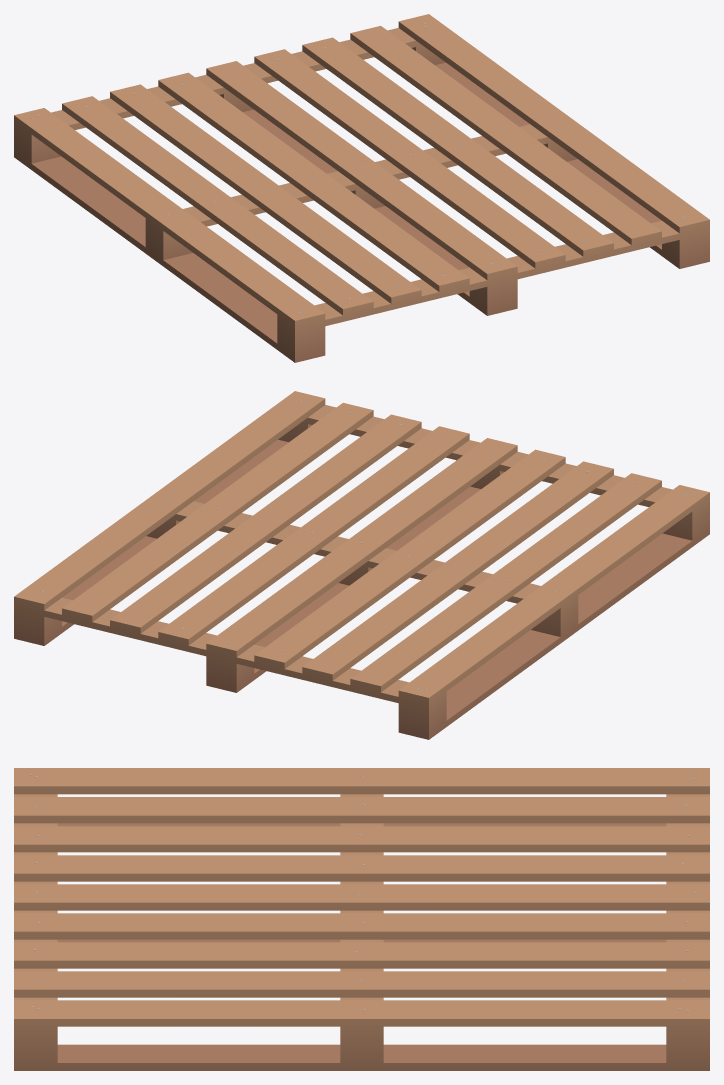
The model's file is pallet_medium_large_01.glb.
The picture shows the model from 3 angles, top to bottom: view 1: azimuth 30°, elevation 25°; view 2: azimuth 150°, elevation 25°; view 3: azimuth 270°, elevation 25°; orthographic projection. The views are drawn at different scales.
Parts seen in each view (by area): view 1: pallet_medium_large_01; view 2: pallet_medium_large_01; view 3: pallet_medium_large_01.
Boxes of the visible parts, x1,y1,x2,y2 form: pallet_medium_large_01: (14,14,709,362); pallet_medium_large_01: (14,391,709,739); pallet_medium_large_01: (14,768,709,1070).
Size of the model in its own units: 1.36 by 0.1338 by 1.6.
1 material, 1 textured.
